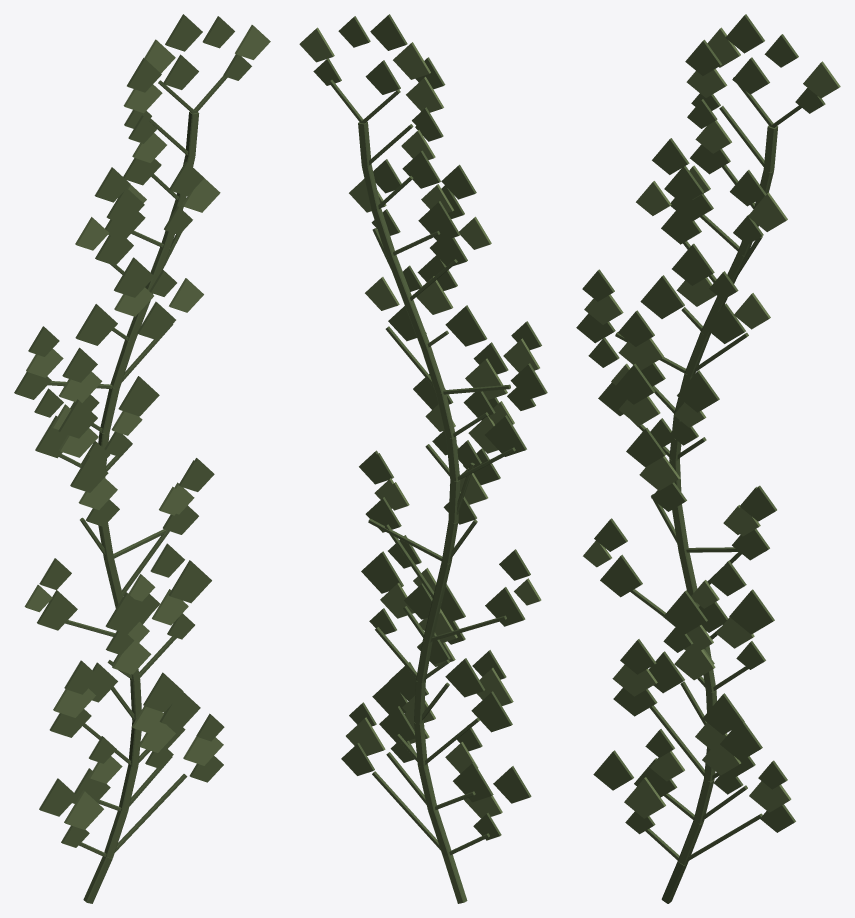
Rendered from ivy_strip.glb.
3 views of the same model, side by side, from view 1: azimuth 30°, elevation 25°; view 2: azimuth 150°, elevation 25°; view 3: azimuth 330°, elevation 25° (orthographic). The views are drawn at different scales.
Visible parts, largest first — view 1: Ivy Strip; view 2: Ivy Strip; view 3: Ivy Strip.
Part boxes in pixels (box(x1,y1,x2,y2)): Ivy Strip: box(14, 14, 270, 903); Ivy Strip: box(299, 14, 547, 903); Ivy Strip: box(576, 14, 840, 903).
Bounding box in the file's own units: 1.25 × 4.12 × 0.1119.
